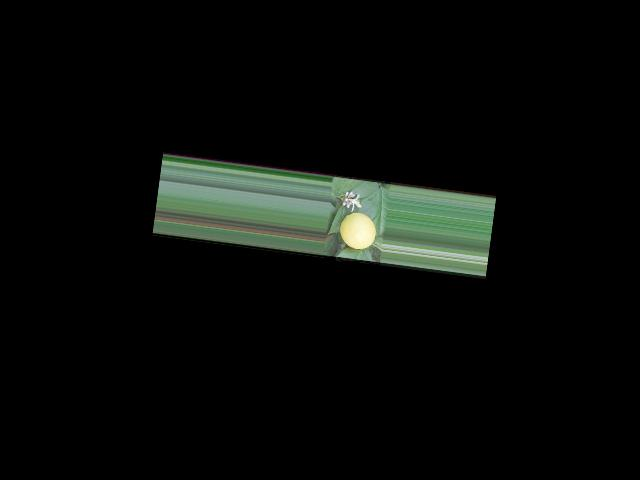lemon: (337, 210, 379, 254)
